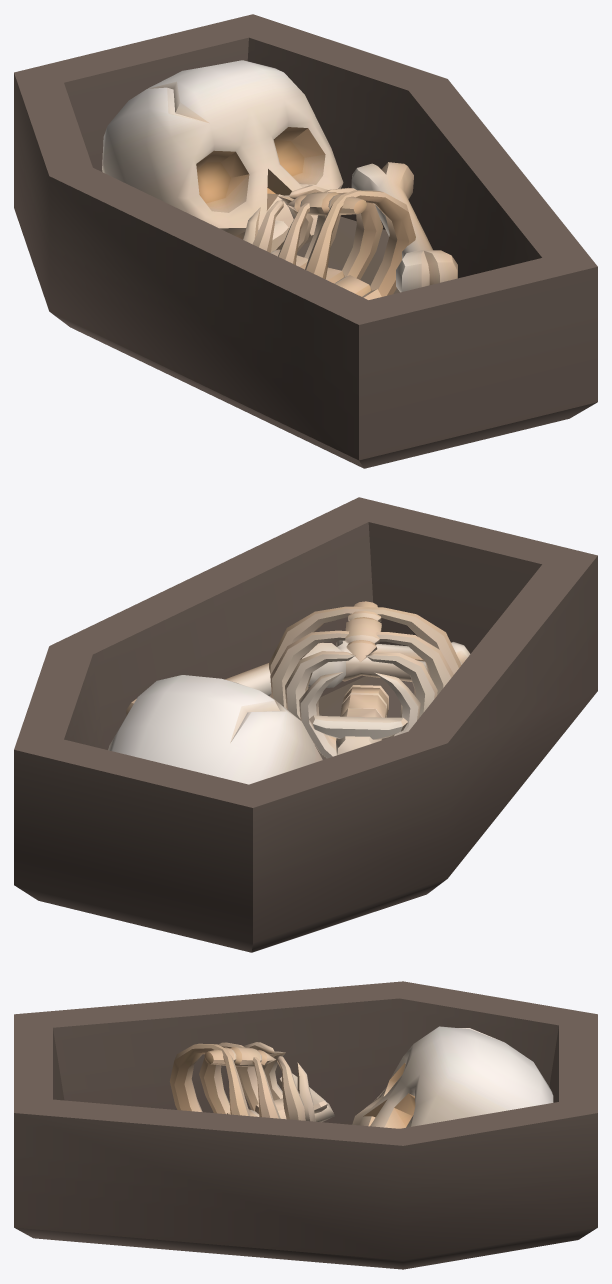
The model's file is coffin-decorated.glb.
3 renders of one model, top to bottom at view 1: azimuth 30°, elevation 25°; view 2: azimuth 150°, elevation 25°; view 3: azimuth 270°, elevation 25°, orthographic. The views are drawn at different scales.
Parts seen in each view (by area): view 1: coffin_decorated; view 2: coffin_decorated; view 3: coffin_decorated.
Boxes of the visible parts, x1,y1,x2,y2 form: coffin_decorated: (14,14,597,468); coffin_decorated: (14,497,597,952); coffin_decorated: (14,981,597,1269).
Size of the model in its own units: 2 by 0.9025 by 3.
Materials: 1 (1 with a texture image).
